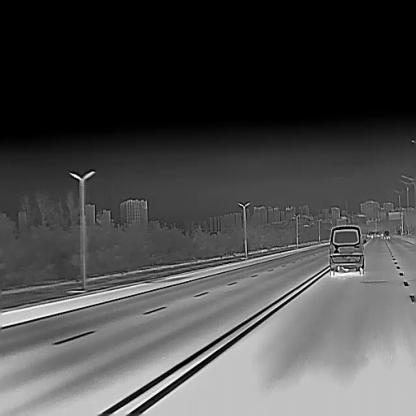car: (328, 224, 366, 276), (383, 230, 389, 239), (367, 231, 372, 238), (375, 231, 379, 237)
